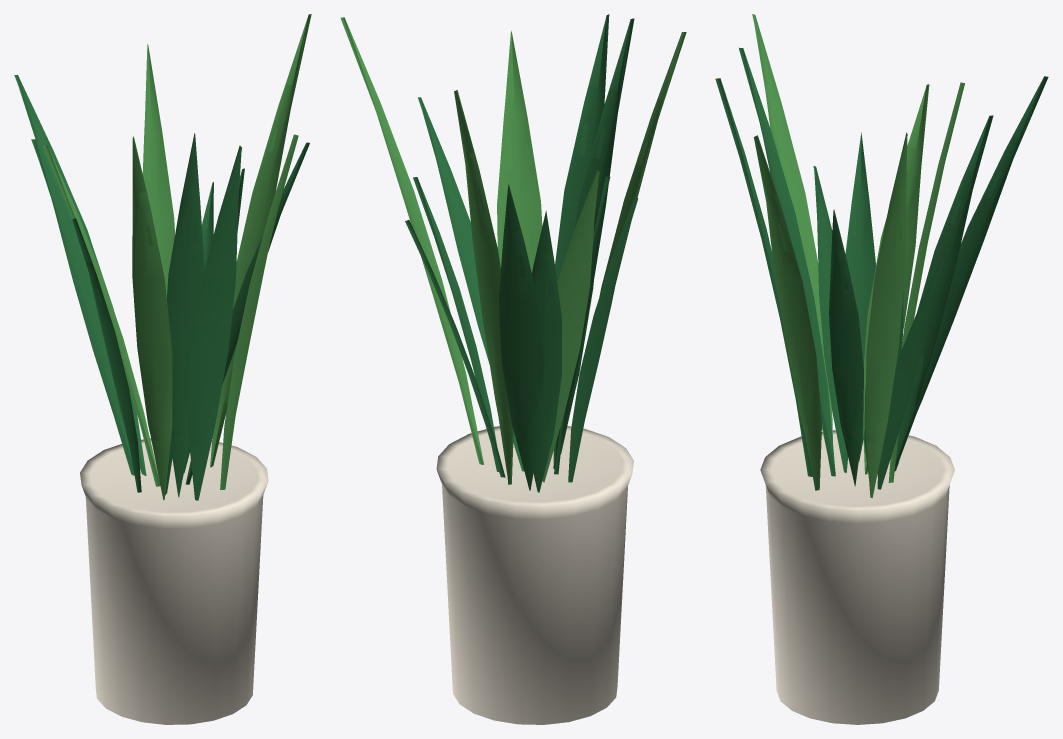
Rendered from RmTallPlant.fbx.
3 views of the same model, side by side, from view 1: azimuth 30°, elevation 25°; view 2: azimuth 150°, elevation 25°; view 3: azimuth 270°, elevation 25° (orthographic). The views are drawn at different scales.
Visible parts, largest first — view 1: RmTallPlantBody; view 2: RmTallPlantBody; view 3: RmTallPlantBody.
Boxes of the visible parts, box(x1,y1,x2,y2) form: RmTallPlantBody: box(14, 14, 311, 724); RmTallPlantBody: box(340, 14, 686, 724); RmTallPlantBody: box(715, 14, 1048, 724).
Bounding box in the file's own units: 0.5743 × 1.3 × 0.616.
